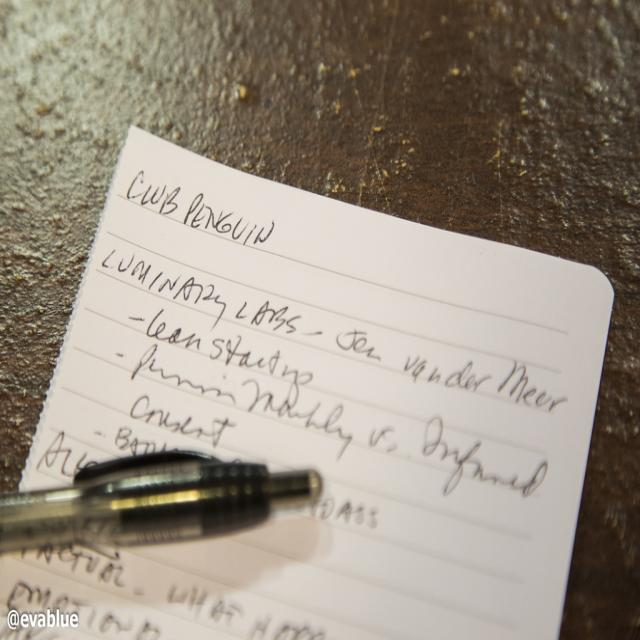pen: (0, 443, 324, 558)
